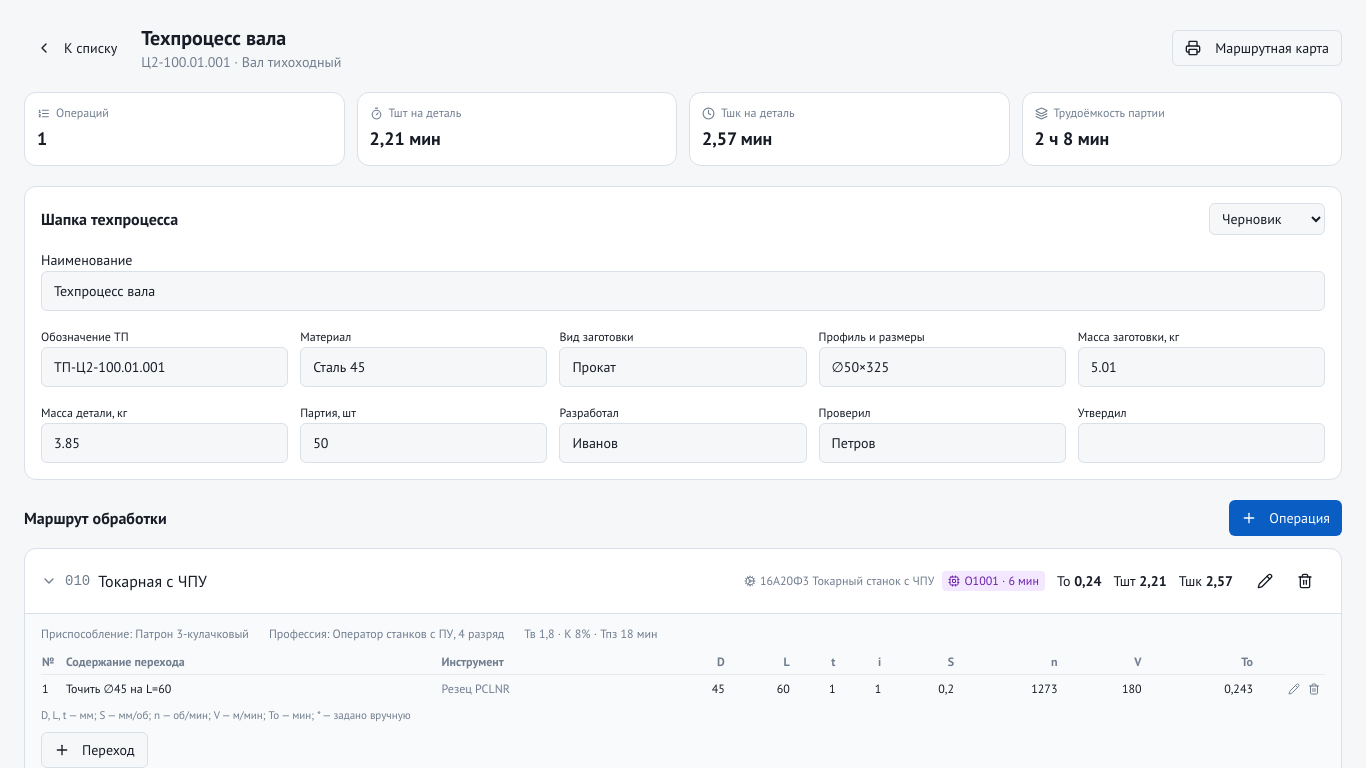
Редактор техкарты › удаляет операцию после подтверждения и перерисовывает маршрут
Click the button titled "Удалить" in the row of "· 6 мин". click: (1305, 581)
box: [1285,561,1325,601]
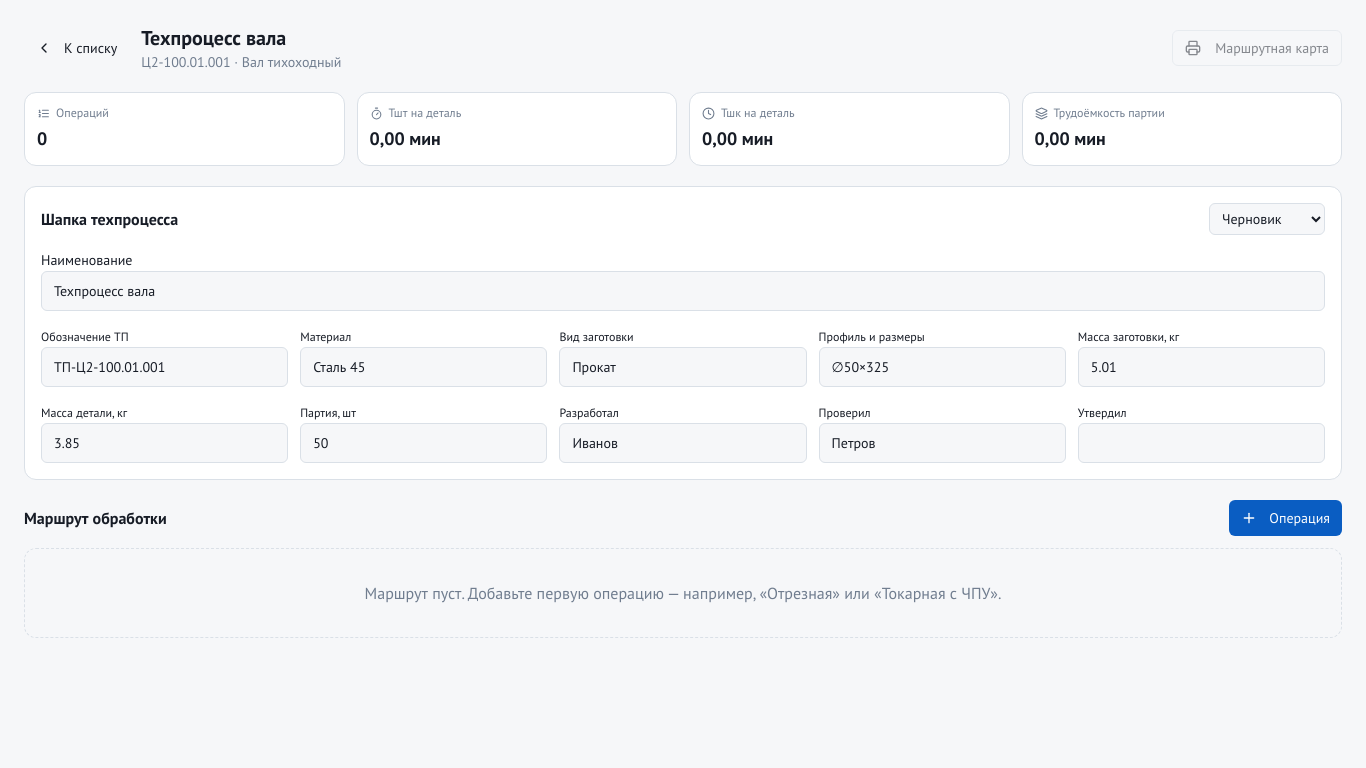
Check: the text "Маршрут пуст" is shown, box [364,583,1001,603]
